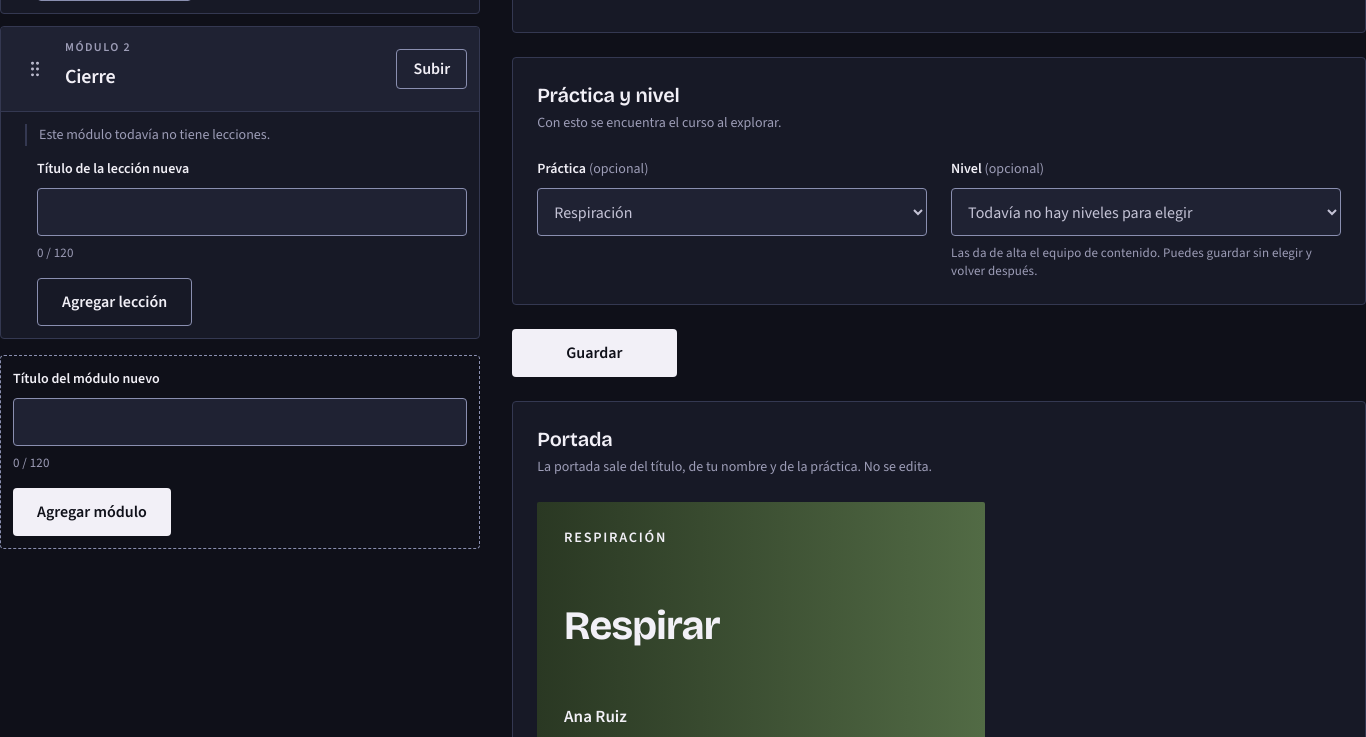
it: los bloques del editor › «Guardado» deja de decirse en cuanto se vuelve a escribir
The width and height of the screenshot is (1366, 737).
(page scrolled)
Click the button "Guardar". click: x=594, y=353
box: 512,329 -> 676,377
(page scrolled)
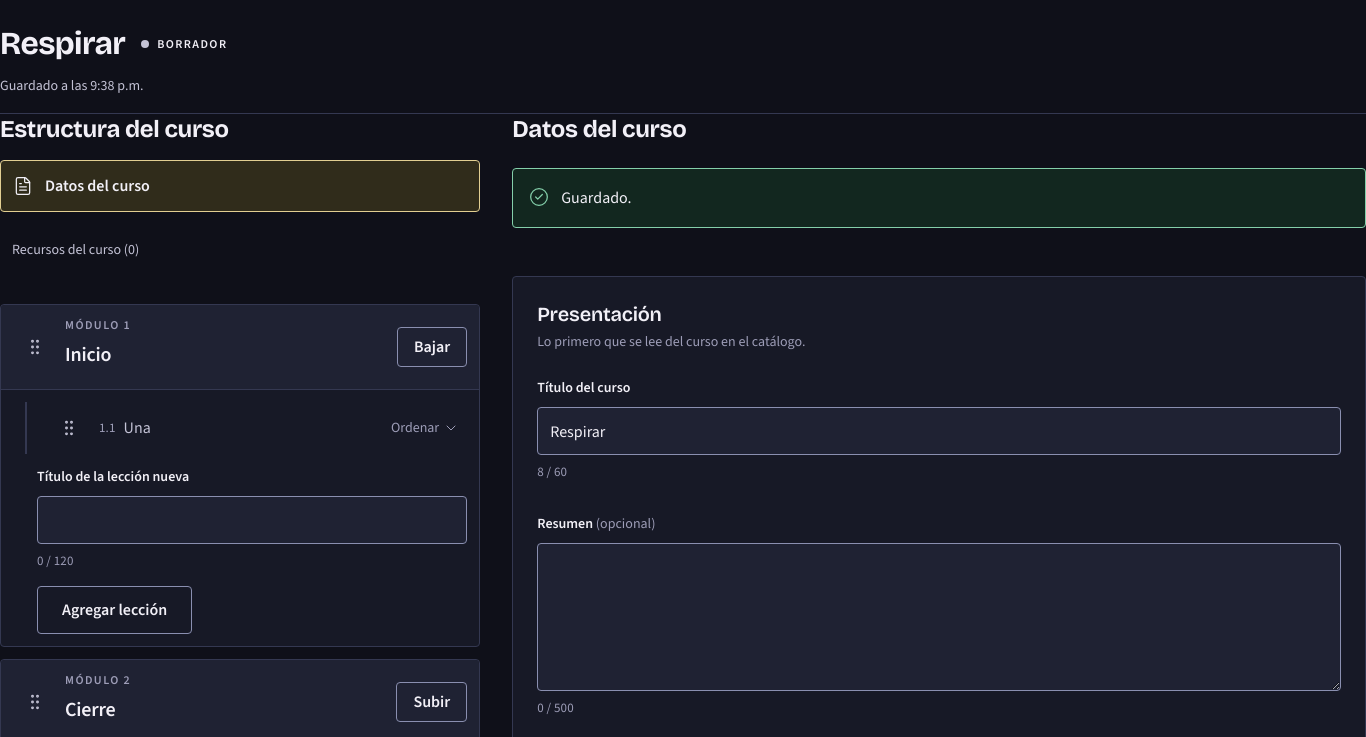
expect the text "Guardado." is shown: met, box 561,185 -> 632,211
Type " más" into the field labelled "Título del curso". click: x=939, y=431
box: 537,407 -> 1341,455
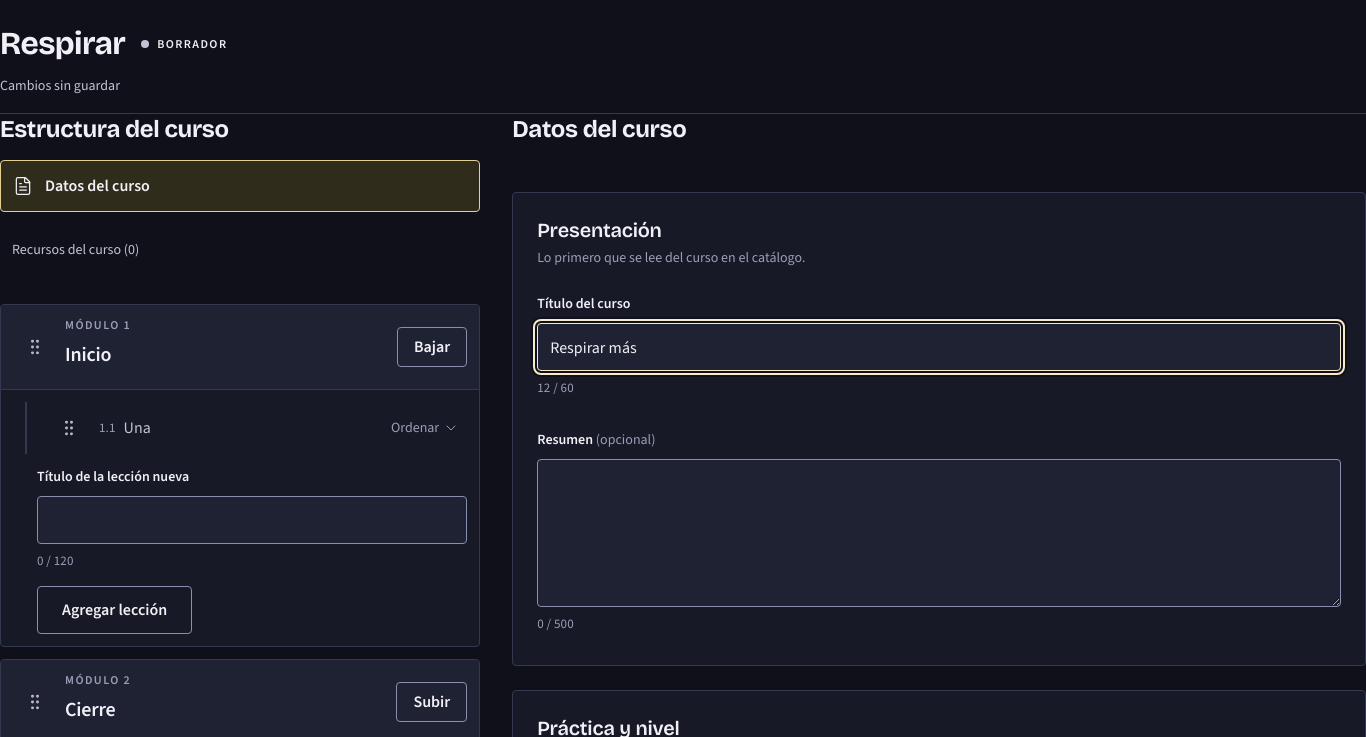
expect the text "Guardado." is gone: met
expect the field labelled "Título del curso" holds "Respirar más": met, box 537,323 -> 1341,371
